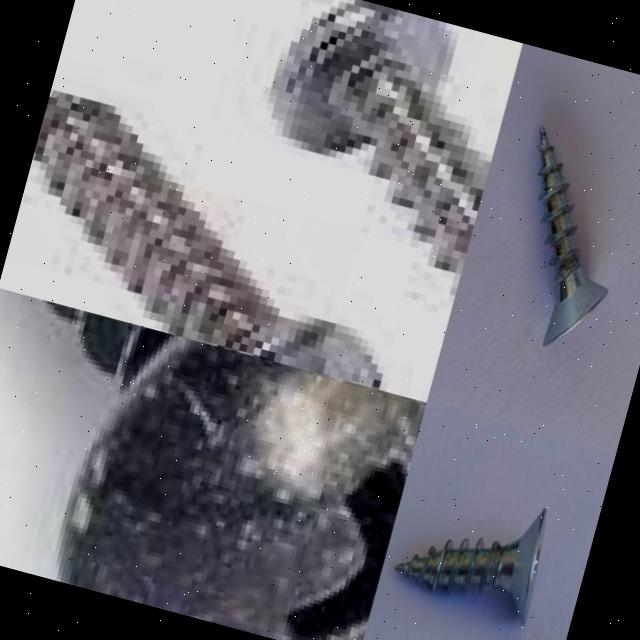Screw: (37, 298, 426, 640), (32, 89, 384, 390), (270, 0, 490, 291), (395, 508, 546, 623), (538, 125, 608, 345)
